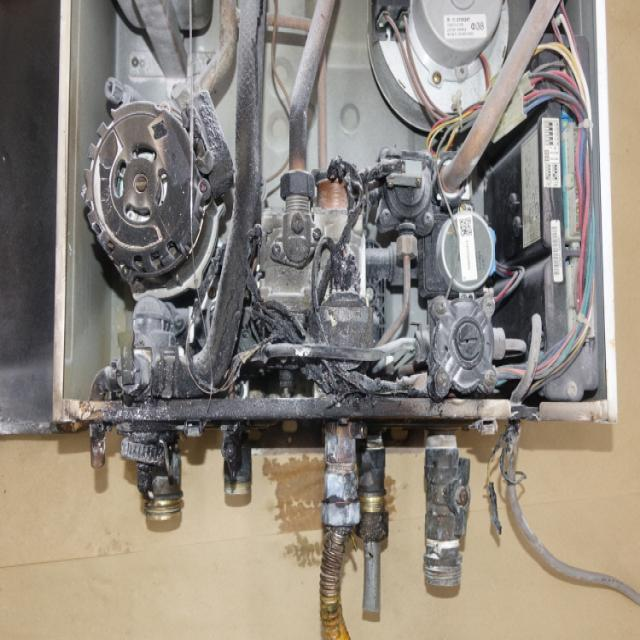Boiler: (34, 0, 640, 486)
